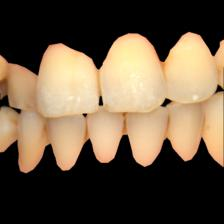cavity: (94, 69, 106, 97), (1, 71, 11, 98), (42, 122, 51, 144), (122, 113, 131, 135), (159, 61, 169, 79), (82, 122, 92, 139), (166, 113, 172, 138)
tooth: (103, 34, 163, 112), (39, 40, 99, 117), (166, 30, 217, 103), (126, 113, 170, 167), (47, 116, 89, 171), (169, 102, 204, 162), (1, 56, 37, 112), (17, 111, 49, 173), (86, 113, 123, 164), (1, 105, 17, 156)
